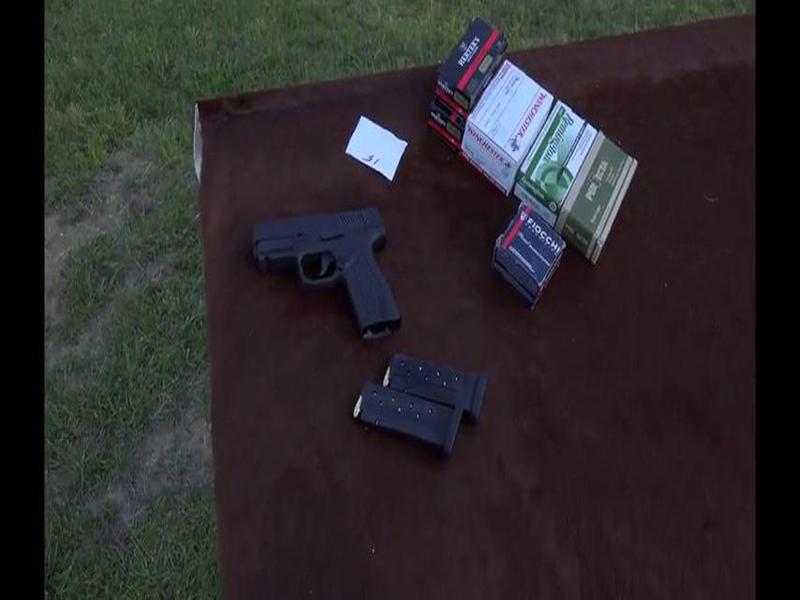Pistola: (248, 204, 417, 346)
